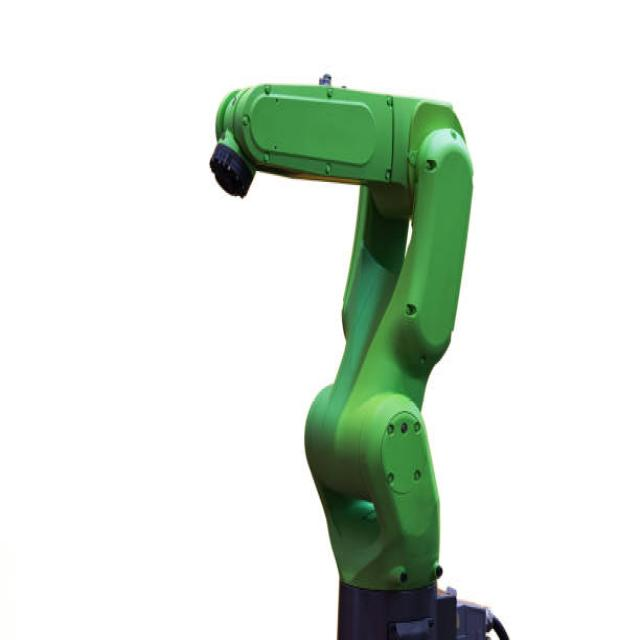Robotic-arm: (198, 64, 520, 640)
